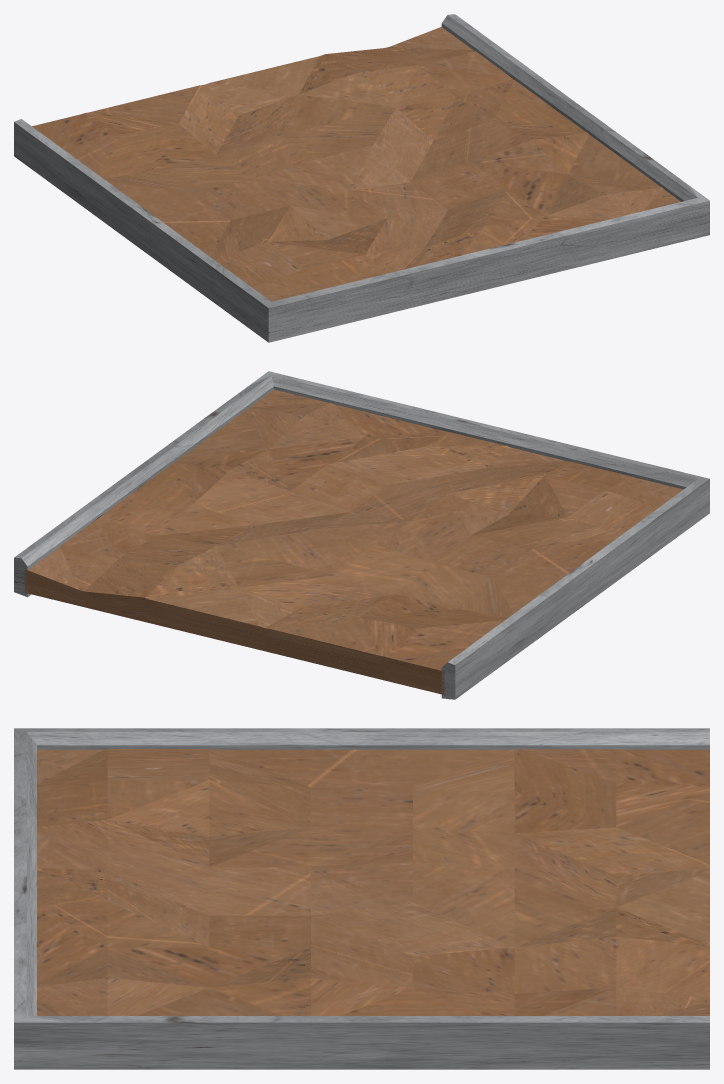
Rendered from floor2.fbx.
3 renders of one model, top to bottom at view 1: azimuth 30°, elevation 25°; view 2: azimuth 150°, elevation 25°; view 3: azimuth 270°, elevation 25°, orthographic. The views are drawn at different scales.
Parts seen in each view (by area): view 1: Cube.002; view 2: Cube.002; view 3: Cube.002.
Boxes of the visible parts, <box> form: Cube.002: <box>14,14,709,342</box>; Cube.002: <box>14,371,709,699</box>; Cube.002: <box>14,728,709,1069</box>.
Bounding box in the file's own units: 400 × 32.56 × 400.
Materials: 2 (2 with a texture image).
